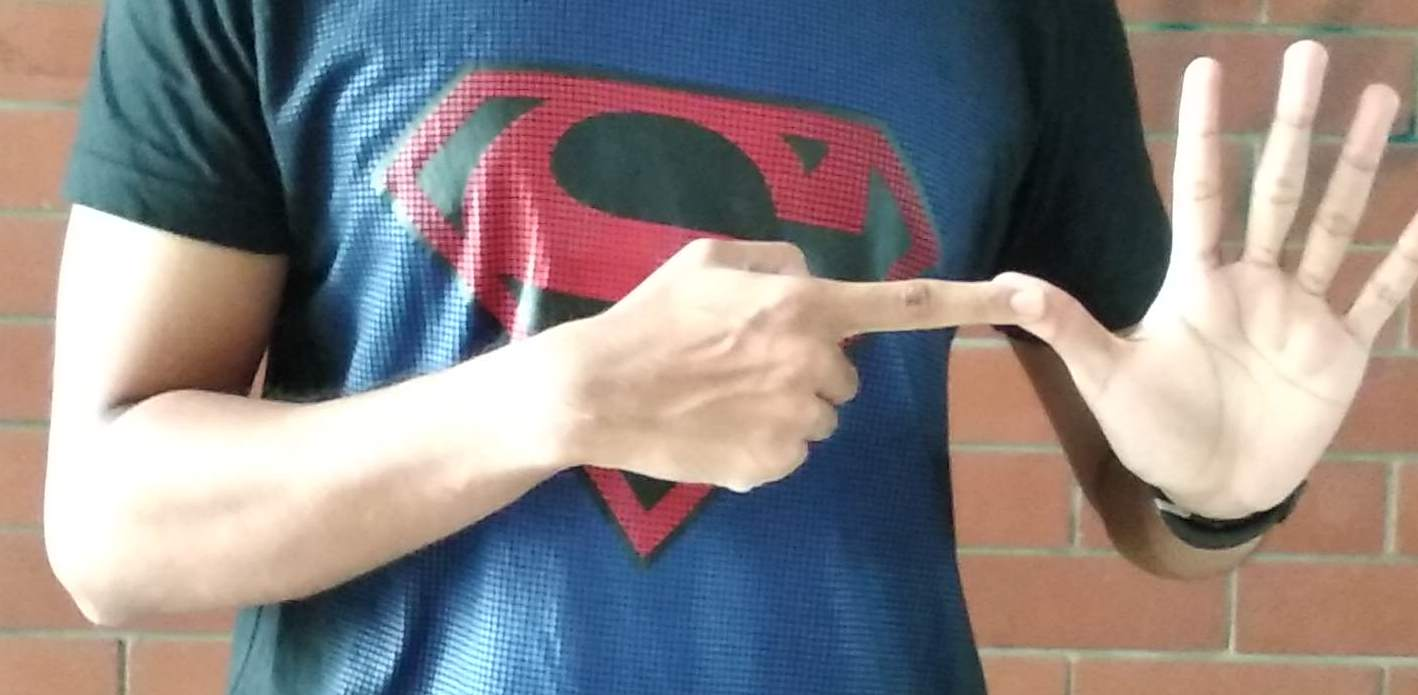a: (710, 75, 1348, 580)
